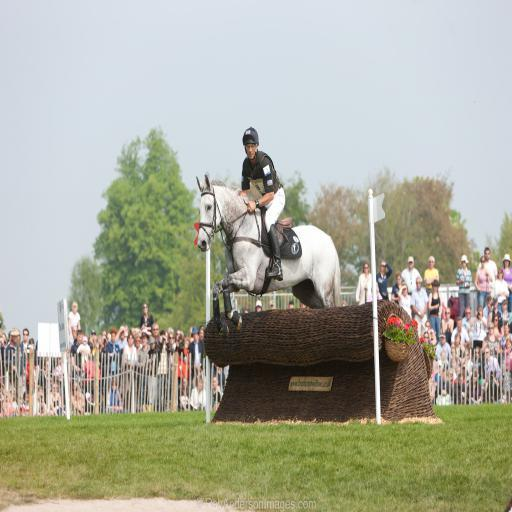horse: (196, 172, 340, 340)
